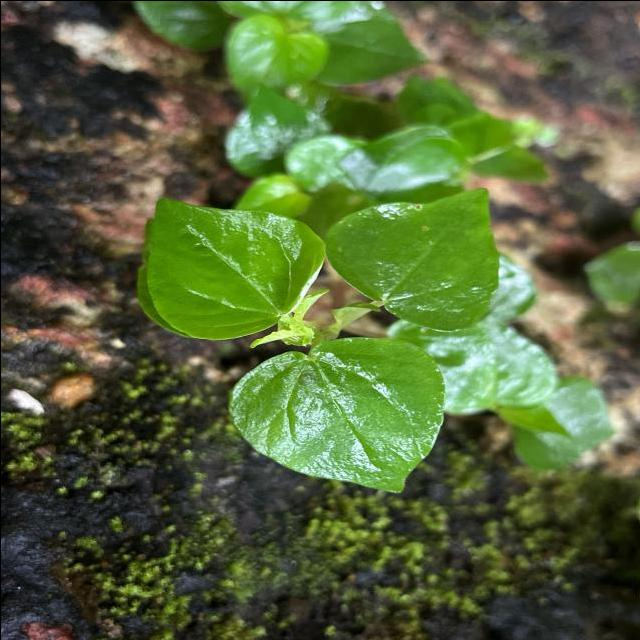Peperomia pellucida: (224, 332, 448, 496), (141, 194, 329, 344)
